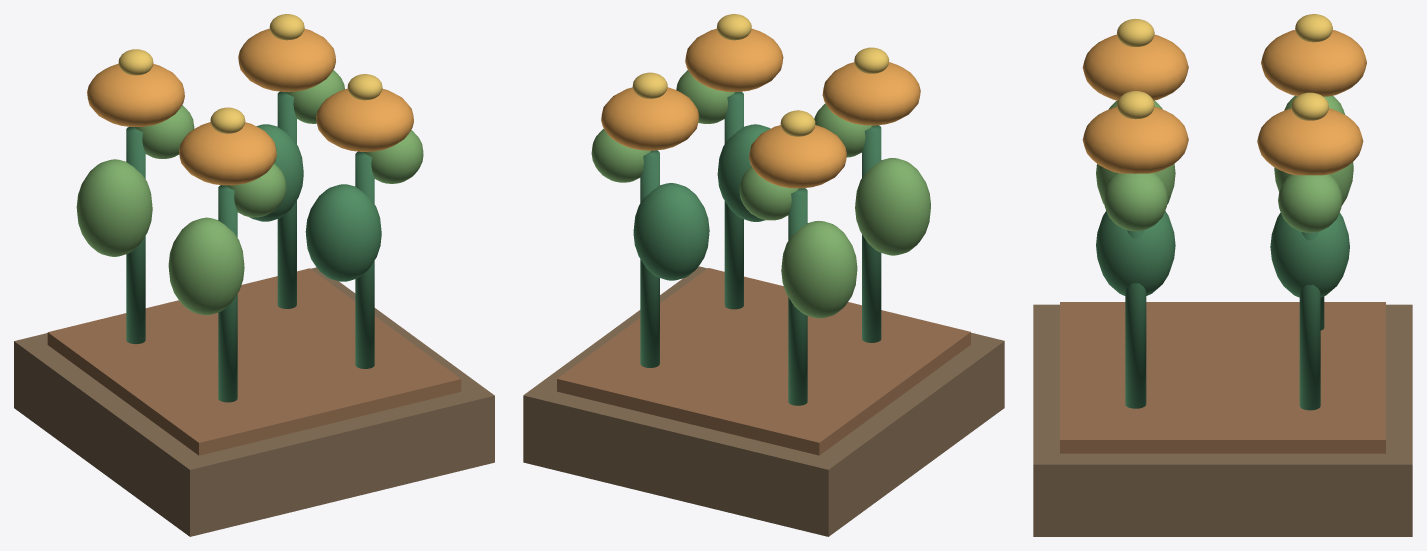
Rendered from garden.flower.calendula-old.glb.
The picture shows the model from 3 angles, left to right: view 1: azimuth 30°, elevation 25°; view 2: azimuth 150°, elevation 25°; view 3: azimuth 270°, elevation 25°; orthographic projection. The views are drawn at different scales.
Visible parts, largest first — view 1: garden timber frame; view 2: garden timber frame; view 3: garden timber frame.
Boxes of the visible parts, x1,y1,x2,y2 form: garden timber frame: (14, 14, 494, 536); garden timber frame: (523, 14, 1004, 536); garden timber frame: (1033, 14, 1412, 536).
Size of the model in its own units: 1 by 1.16 by 1.
